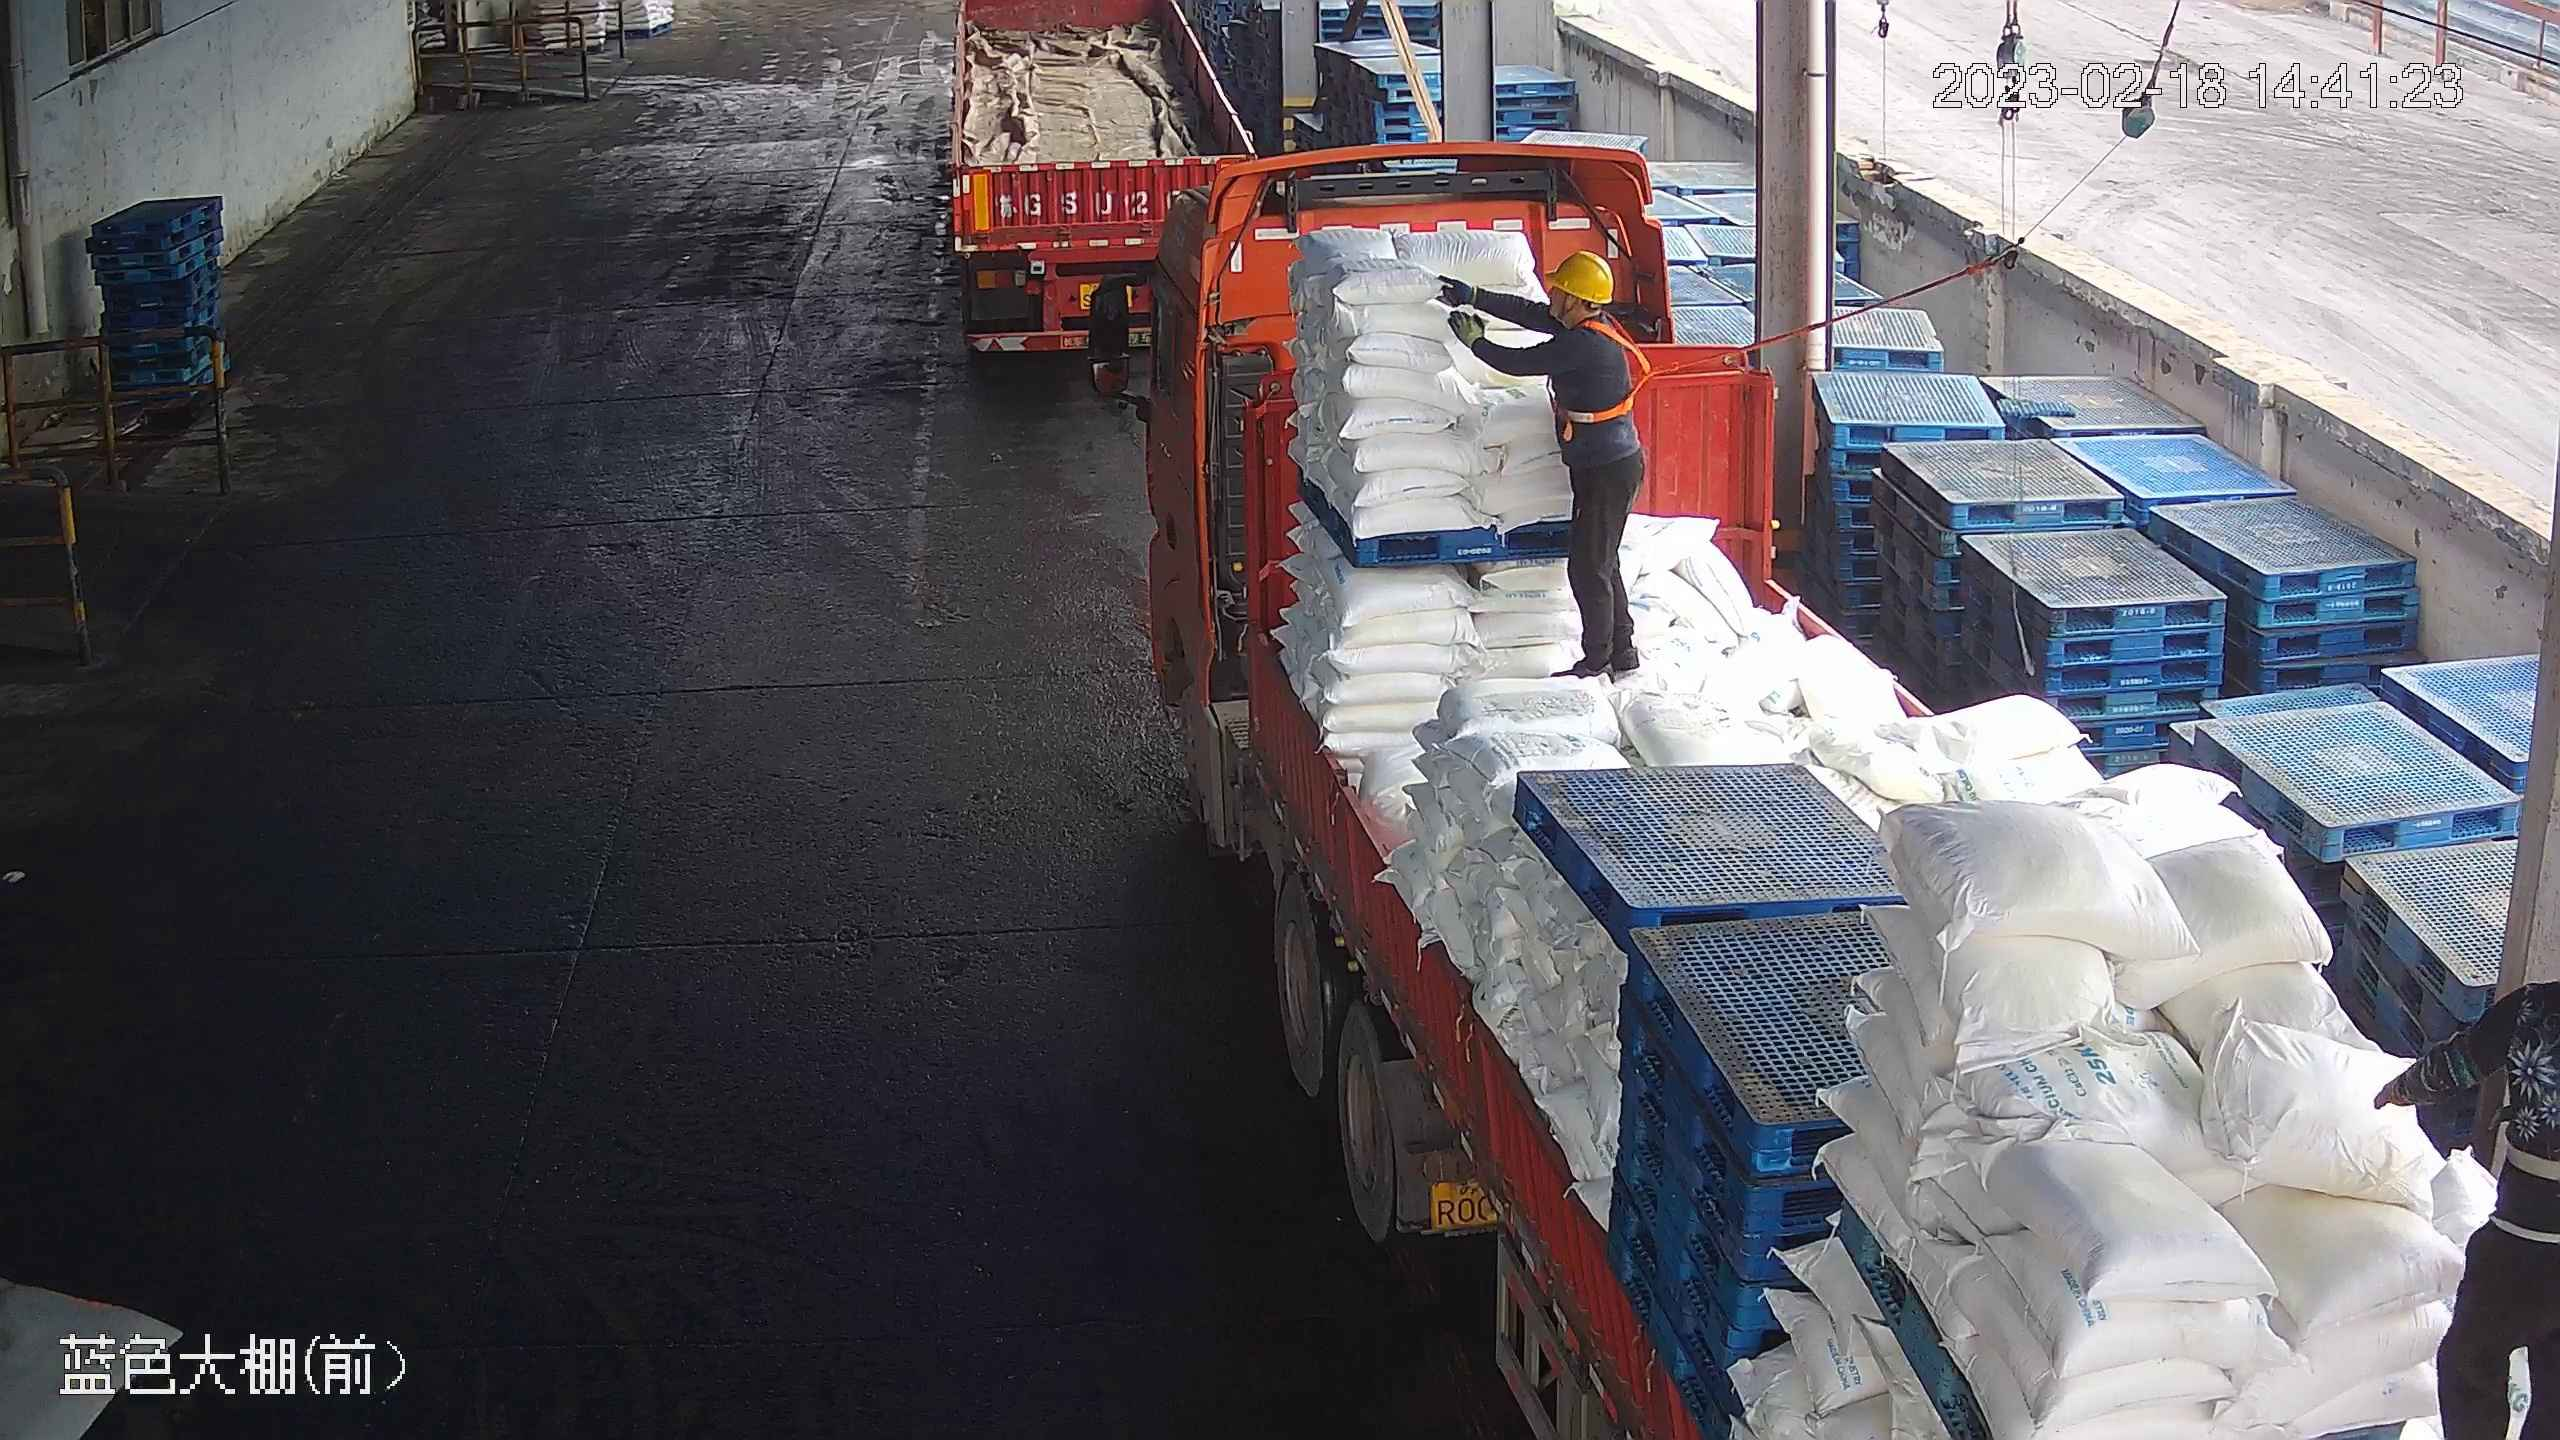belt: (1556, 314, 1657, 428)
head: (1534, 248, 1637, 382)
helmet: (1542, 247, 1615, 306), (1543, 247, 1614, 305)
people: (1448, 245, 1649, 685), (2370, 971, 2559, 1440)
truck: (1089, 141, 2552, 1439), (946, 1, 1260, 360)
